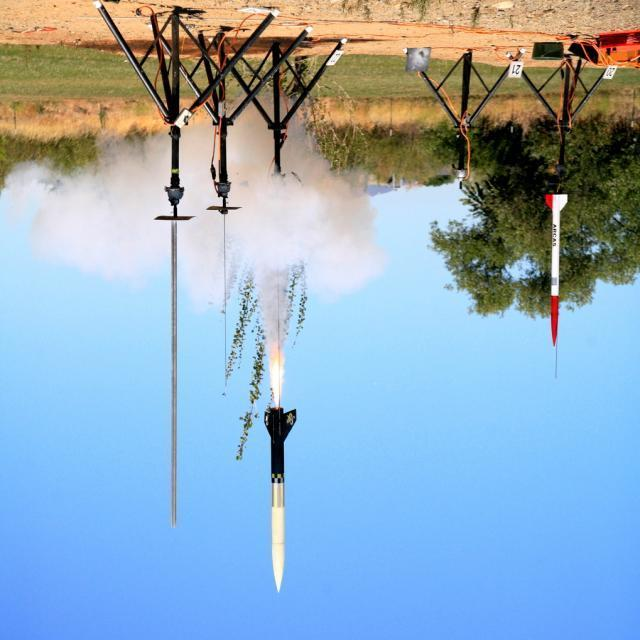Missile: (261, 407, 299, 594), (534, 187, 569, 346)
